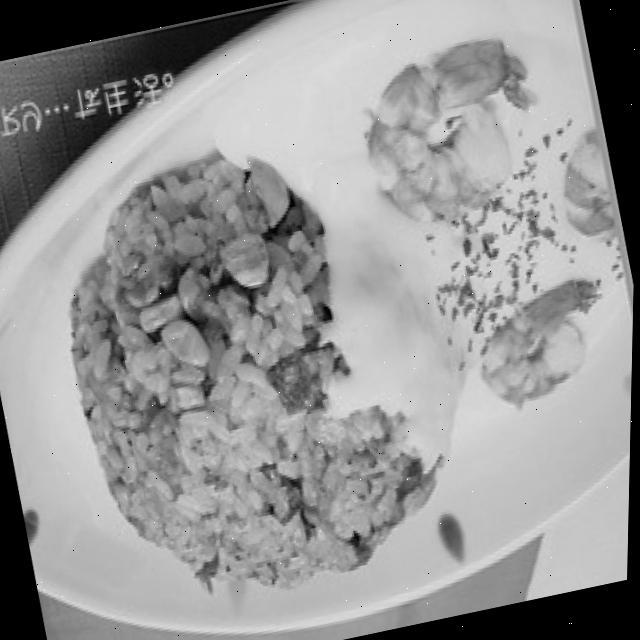米饭主食: (0, 62, 639, 640)
